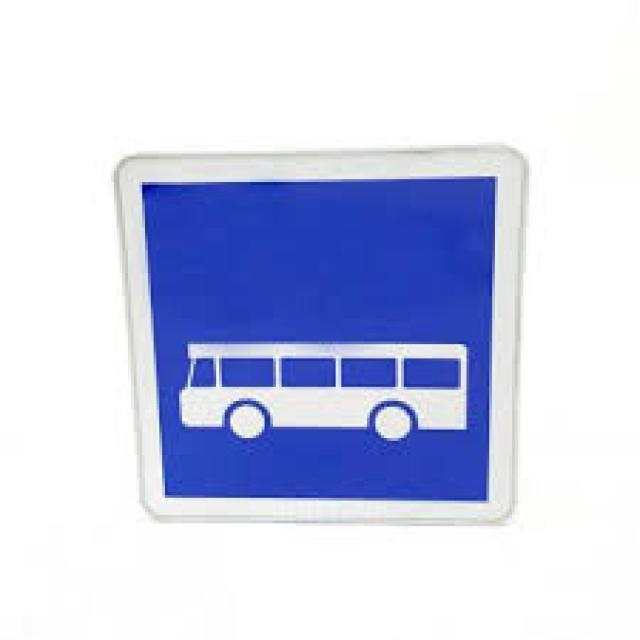ArretBus: (119, 164, 514, 523)
